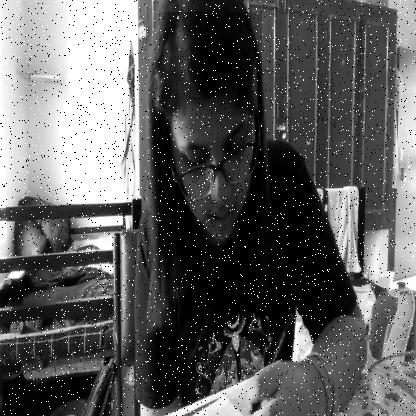Normal: (159, 12, 262, 256)
